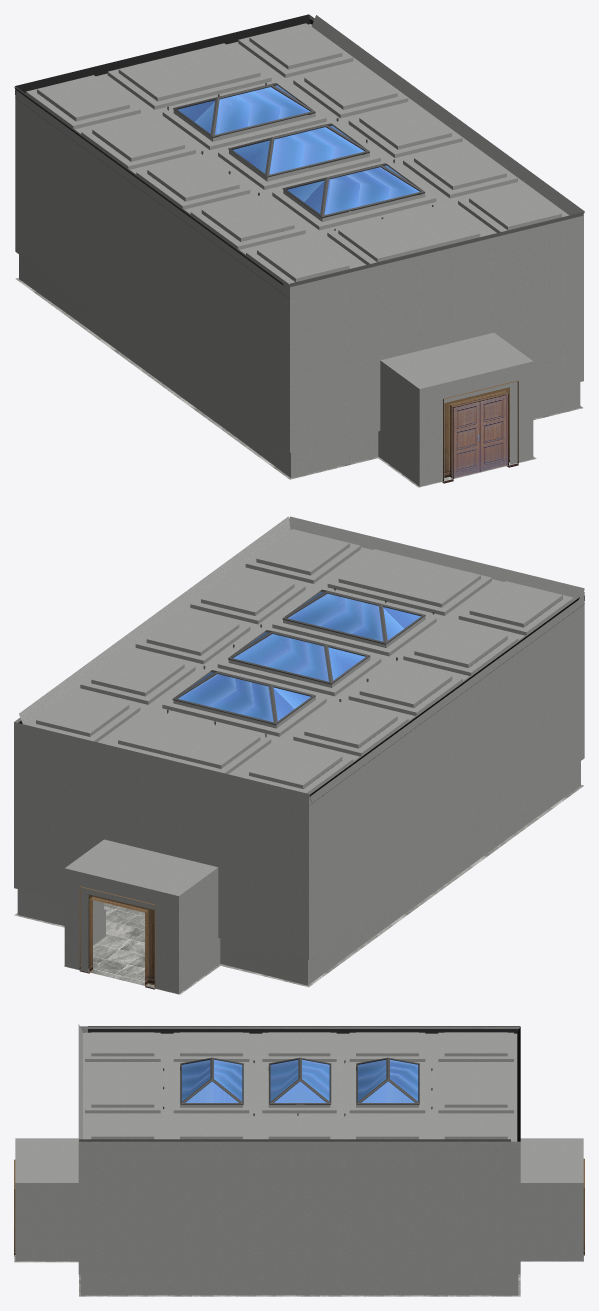
Rendered from Museum Room.fbx.
3 views of the same model, one above another, from view 1: azimuth 30°, elevation 25°; view 2: azimuth 150°, elevation 25°; view 3: azimuth 270°, elevation 25° (orthographic). The views are drawn at different scales.
Visible parts, largest first — view 1: hall1_walls__3_, glass_hall1__5_, doors1__1_, only_wall, frames_roof__2_, frame2__2_, floor_hall1__3_; view 2: hall1_walls__3_, glass_hall1__5_, floor_hall1__3_, frames_roof__2_, frame2__3_, only_wall; view 3: hall1_walls__3_, glass_hall1__5_, only_wall, frames_roof__2_, floor_hall1__3_.
Part boxes in pixels (<box>): hall1_walls__3_: <box>15,14,584,486</box>; glass_hall1__5_: <box>178,85,419,214</box>; doors1__1_: <box>451,392,508,478</box>; only_wall: <box>14,14,420,298</box>; frames_roof__2_: <box>173,83,424,217</box>; frame2__2_: <box>442,380,518,483</box>; floor_hall1__3_: <box>15,278,582,487</box>; hall1_walls__3_: <box>14,516,584,994</box>; glass_hall1__5_: <box>178,592,420,721</box>; floor_hall1__3_: <box>14,785,583,994</box>; frames_roof__2_: <box>172,589,425,724</box>; frame2__3_: <box>79,886,155,989</box>; only_wall: <box>18,596,584,805</box>; hall1_walls__3_: <box>15,1024,583,1295</box>; glass_hall1__5_: <box>182,1059,418,1102</box>; only_wall: <box>88,1026,520,1141</box>; frames_roof__2_: <box>180,1057,420,1104</box>; floor_hall1__3_: <box>14,1255,583,1296</box>.
Size of the model in its own units: 1009 by 697 by 2094.
